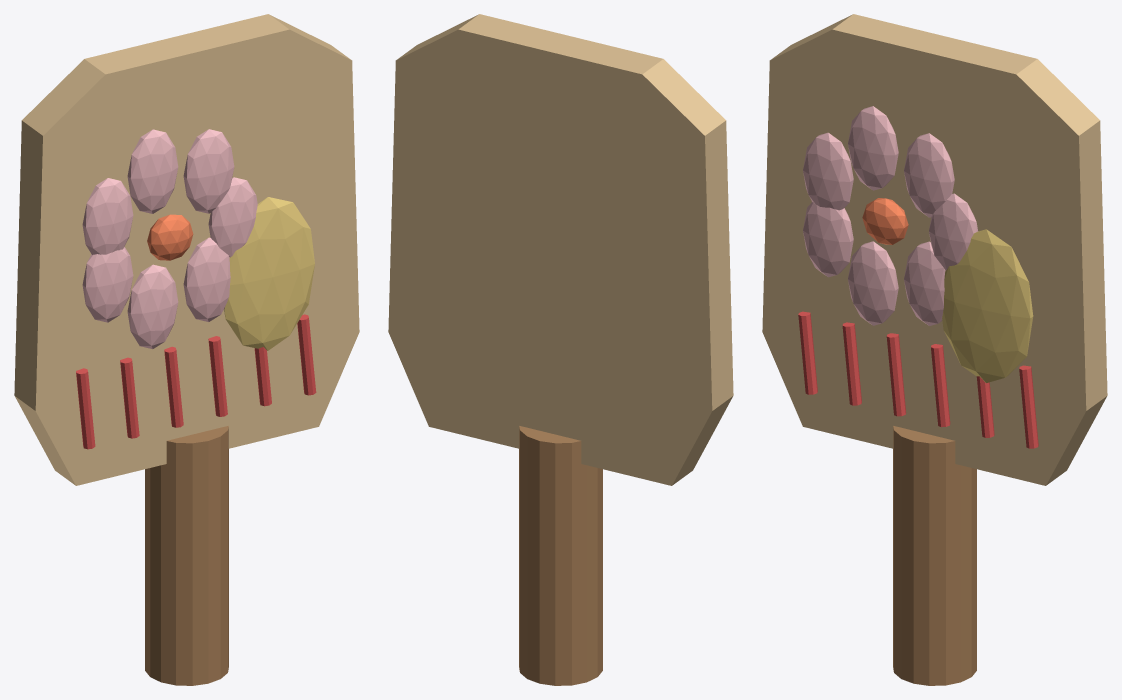
Rendered from folk_hagoita.glb.
3 renders of one model, left to right at view 1: azimuth 30°, elevation 25°; view 2: azimuth 150°, elevation 25°; view 3: azimuth 330°, elevation 25°, orthographic.
Visible parts, largest first — view 1: Hagoita pear-shaped wooden head, Hagoita tapered grip, Gold symbolic cord, Lacquer cherry blossom_petal02, Lacquer cherry blossom_petal05, Lacquer cherry blossom_petal01, Lacquer cherry blossom_petal03, Lacquer cherry blossom_petal06, Lacquer cherry blossom_petal04, Lacquer cherry blossom_petal00, Lacquer cherry blossom_center, Hagoita painted accent_00.001 (+5 smaller); view 2: Hagoita pear-shaped wooden head, Hagoita tapered grip; view 3: Hagoita pear-shaped wooden head, Hagoita tapered grip, Gold symbolic cord, Lacquer cherry blossom_petal05, Lacquer cherry blossom_petal02, Lacquer cherry blossom_petal01, Lacquer cherry blossom_petal03, Lacquer cherry blossom_petal04, Lacquer cherry blossom_petal06, Lacquer cherry blossom_petal00, Lacquer cherry blossom_center, Hagoita painted accent_00 (+5 smaller).
Part boxes in pixels (x1=…): Hagoita pear-shaped wooden head: x1=14, y1=14, x2=359, y2=485; Hagoita tapered grip: x1=145, y1=426, x2=228, y2=685; Gold symbolic cord: x1=224, y1=197, x2=314, y2=350; Lacquer cherry blossom_petal02: x1=127, y1=129, x2=178, y2=213; Lacquer cherry blossom_petal05: x1=127, y1=264, x2=178, y2=349; Lacquer cherry blossom_petal01: x1=183, y1=129, x2=234, y2=213; Lacquer cherry blossom_petal03: x1=82, y1=178, x2=133, y2=254; Lacquer cherry blossom_petal06: x1=183, y1=237, x2=230, y2=321; Lacquer cherry blossom_petal04: x1=82, y1=247, x2=133, y2=322; Lacquer cherry blossom_petal00: x1=208, y1=177, x2=257, y2=257; Lacquer cherry blossom_center: x1=147, y1=214, x2=193, y2=260; Hagoita painted accent_00.001: x1=120, y1=357, x2=139, y2=438; Hagoita pear-shaped wooden head: x1=388, y1=14, x2=733, y2=485; Hagoita tapered grip: x1=519, y1=426, x2=602, y2=685; Hagoita pear-shaped wooden head: x1=762, y1=14, x2=1107, y2=485; Hagoita tapered grip: x1=893, y1=426, x2=976, y2=685; Gold symbolic cord: x1=942, y1=229, x2=1033, y2=382; Lacquer cherry blossom_petal05: x1=848, y1=241, x2=898, y2=325; Lacquer cherry blossom_petal02: x1=848, y1=106, x2=898, y2=190; Lacquer cherry blossom_petal01: x1=904, y1=133, x2=954, y2=217; Lacquer cherry blossom_petal03: x1=803, y1=132, x2=853, y2=210; Lacquer cherry blossom_petal04: x1=803, y1=202, x2=853, y2=277; Lacquer cherry blossom_petal06: x1=904, y1=241, x2=945, y2=325; Lacquer cherry blossom_petal00: x1=929, y1=193, x2=978, y2=270; Lacquer cherry blossom_center: x1=862, y1=198, x2=908, y2=244; Hagoita painted accent_00: x1=798, y1=311, x2=817, y2=394.
Bounding box in the file's own units: 1.06 × 1.95 × 0.2528.
